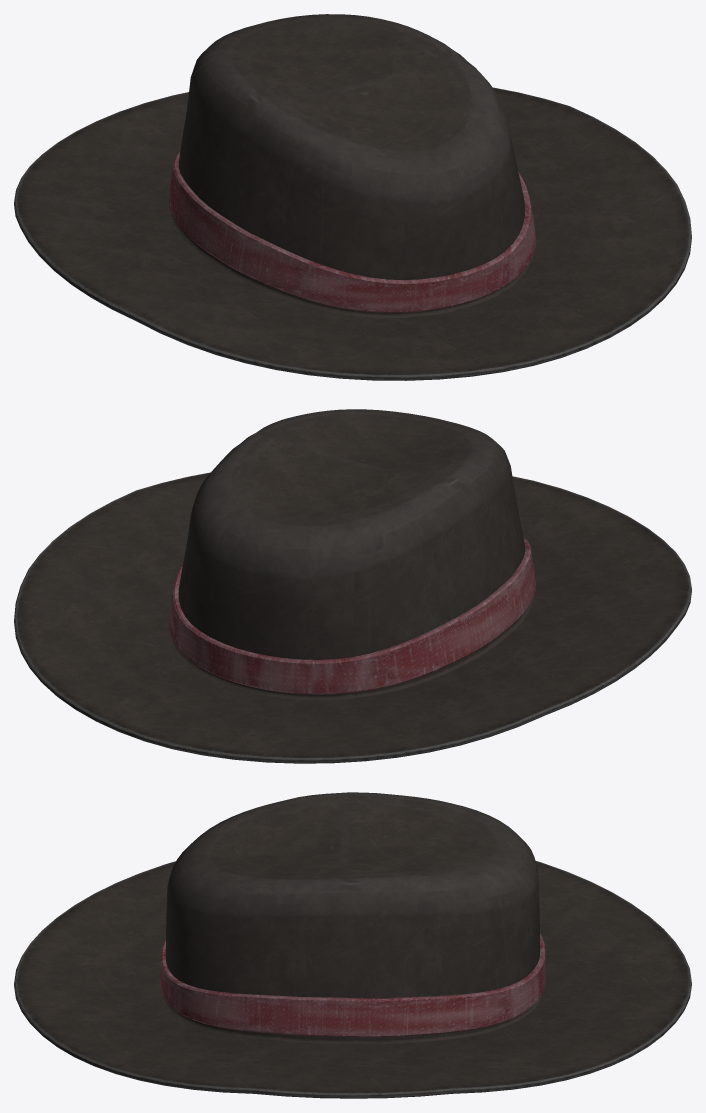
File: Cowboy_Hat.obj
3 renders of one model, top to bottom at view 1: azimuth 30°, elevation 25°; view 2: azimuth 150°, elevation 25°; view 3: azimuth 270°, elevation 25°, orthographic. The views are drawn at different scales.
Parts seen in each view (by area): view 1: Hat; view 2: Hat; view 3: Hat.
Boxes of the visible parts, x1=… form: Hat: x1=14, y1=14, x2=691, y2=380; Hat: x1=14, y1=409, x2=691, y2=763; Hat: x1=14, y1=792, x2=691, y2=1098.
Size of the model in its own units: 1.12 by 0.3166 by 1.24.
Materials: 1 (1 with a texture image).
